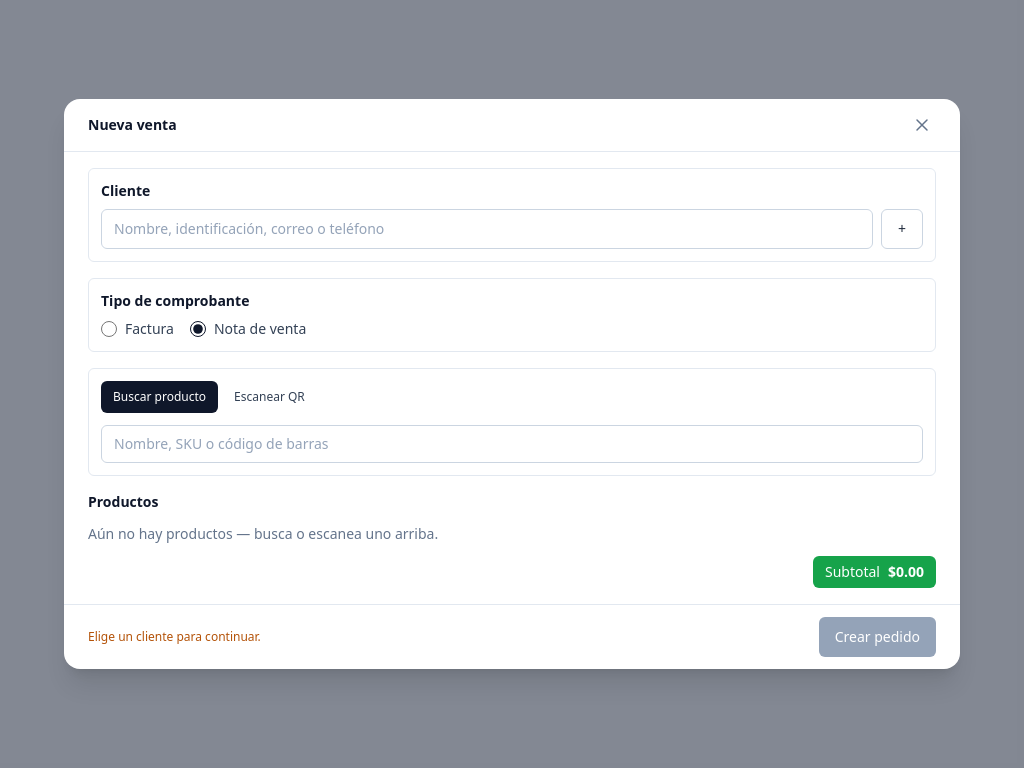
Scenario: ProductCartModal › does not auto-add a single-variant product with zero stock — shows it dimmed instead
Step 1. Type "Blender" into the search field named "buscar producto" → (512, 444), box top-left (101, 425), bottom-right (923, 463)
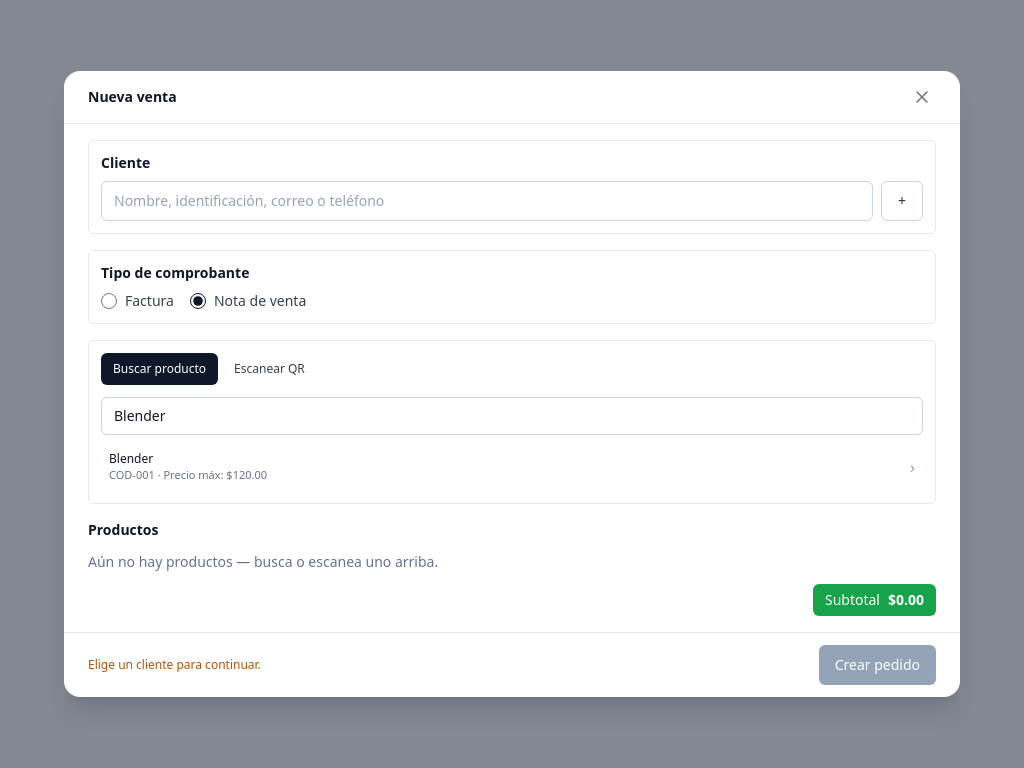
Check: the text "Blender" is shown, box top-left (109, 450), bottom-right (153, 467)
Step 2. Click the button "Blender COD-001 · Precio máx: $120.00 ›" → (131, 458), box top-left (101, 443), bottom-right (923, 491)
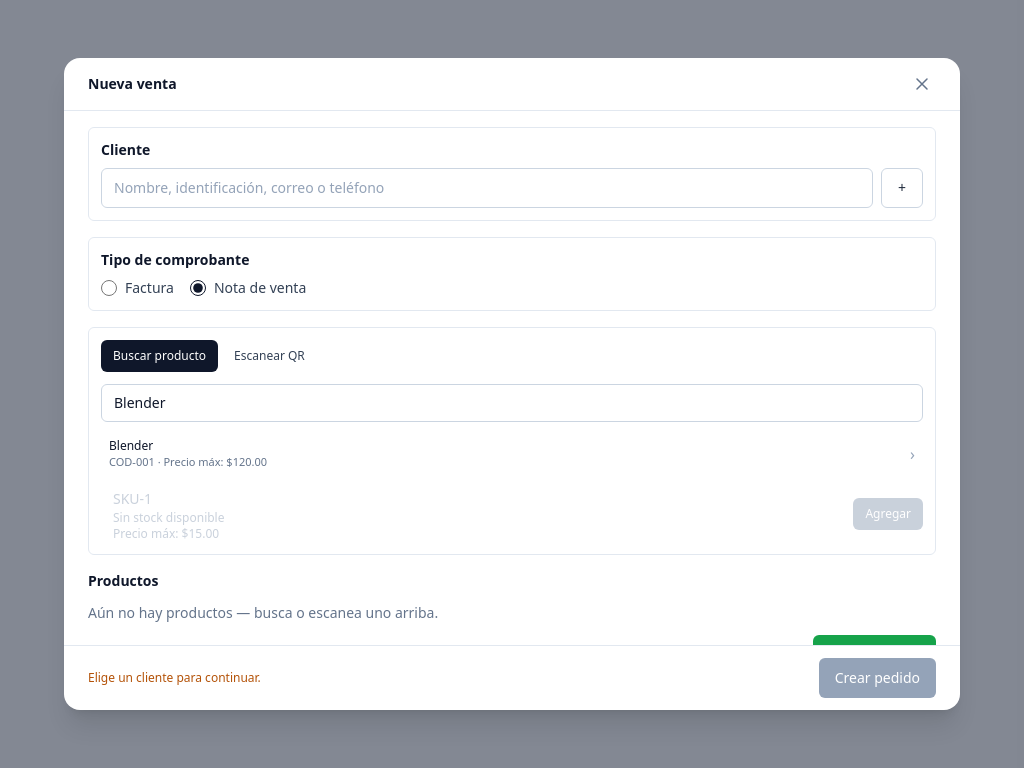
Check: the text "Sin stock disponible" is shown, box top-left (113, 510), bottom-right (224, 526)
